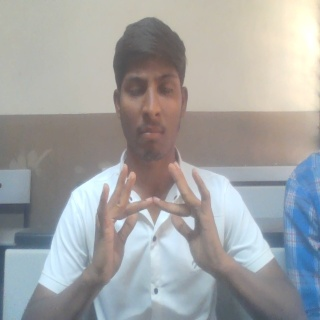Face: (108, 14, 192, 163)
Internet: (85, 164, 229, 292)
